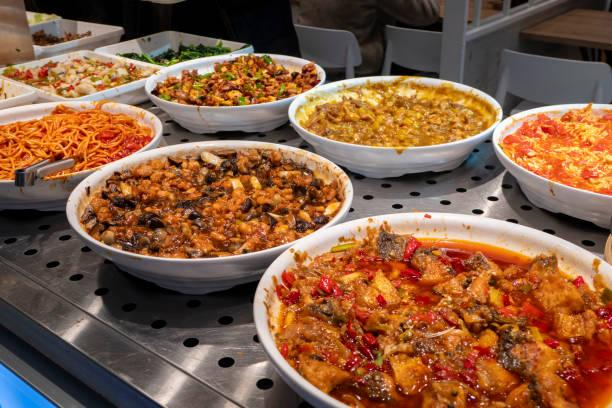Braised Crucian Carp: (253, 212, 604, 402), (67, 141, 347, 290), (287, 75, 497, 178), (146, 53, 323, 134)
